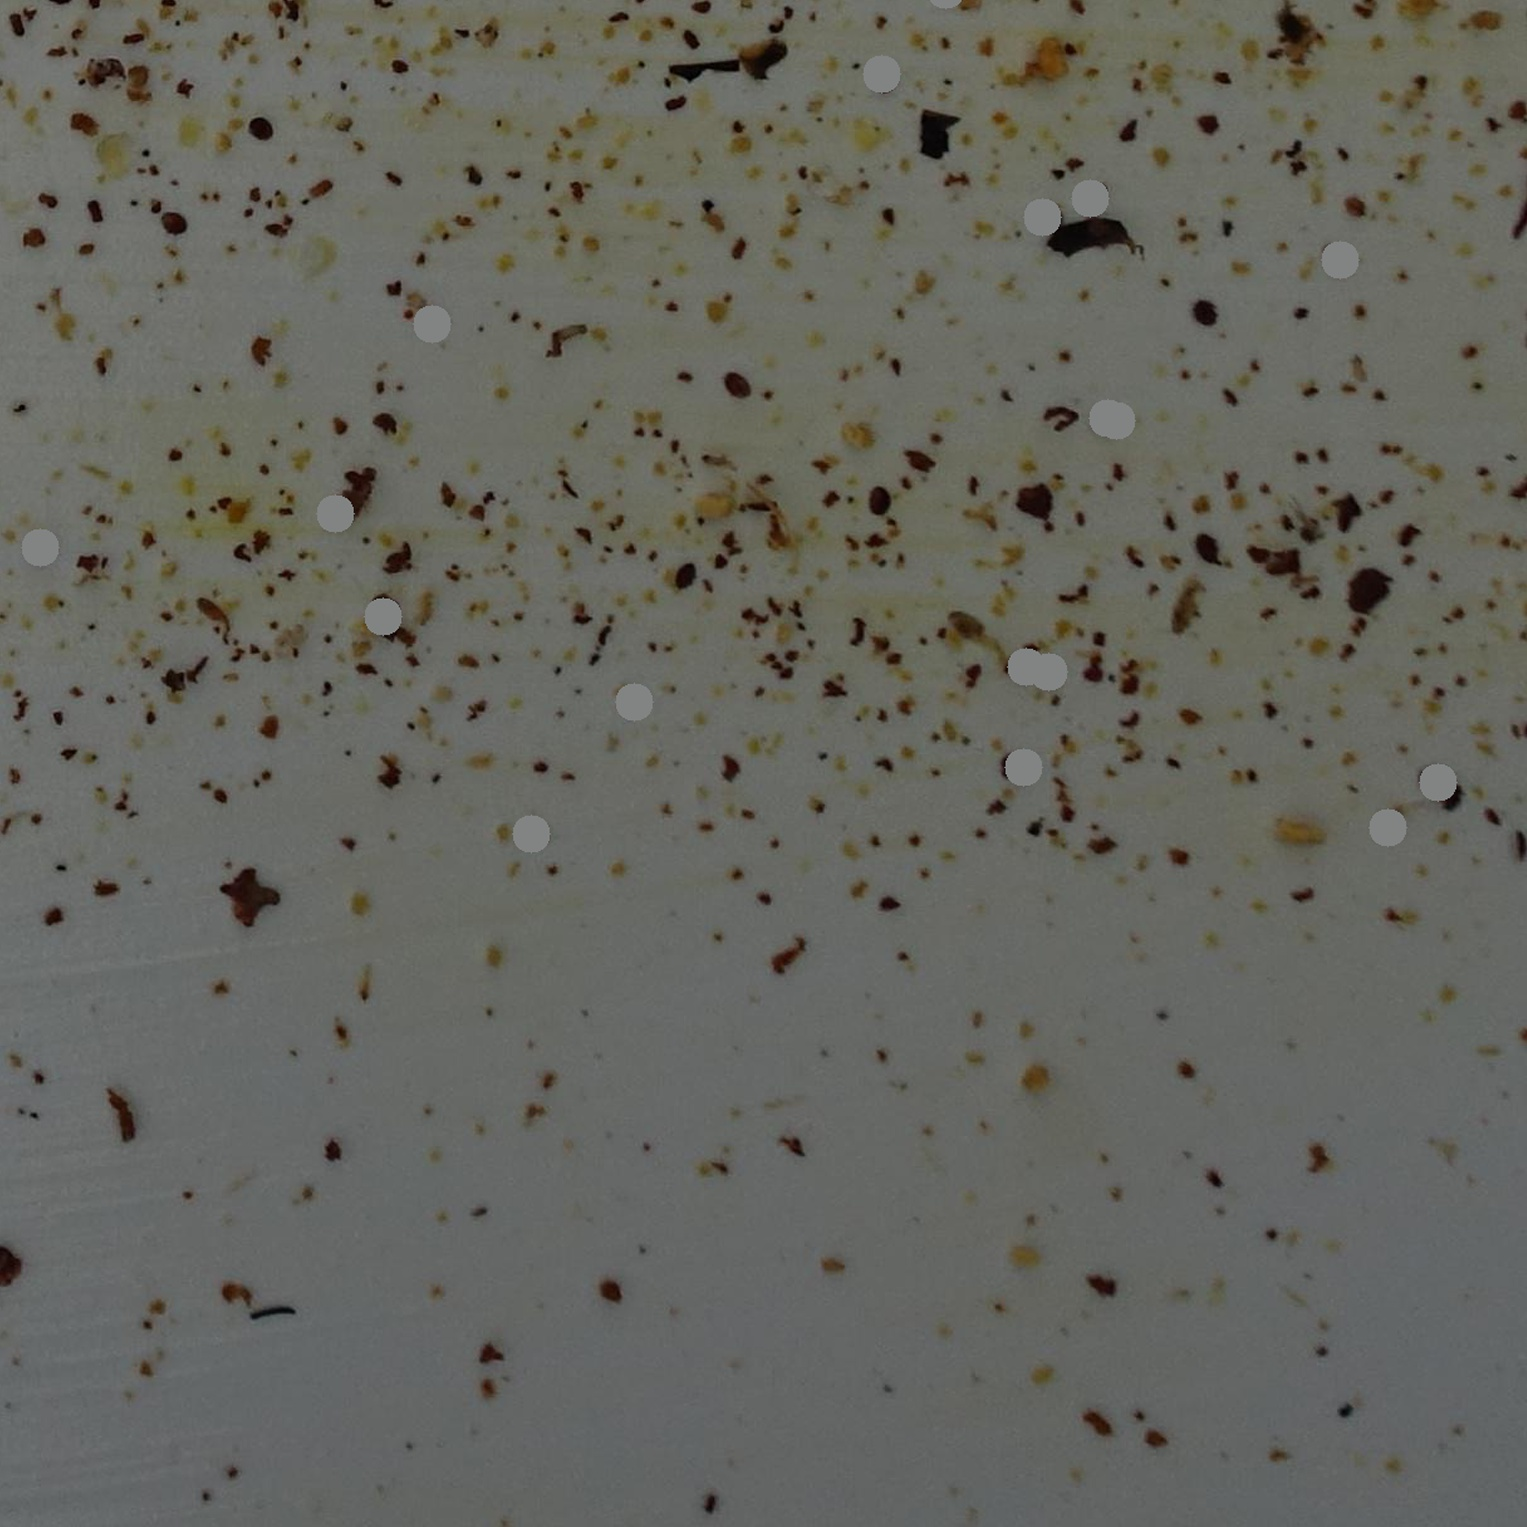Varroa: (1189, 529, 1218, 557), (722, 369, 750, 397), (1191, 298, 1215, 324), (674, 561, 695, 587), (868, 488, 889, 509), (253, 120, 273, 141), (166, 211, 179, 225), (1004, 759, 1015, 770)
